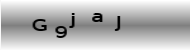9: (52, 25, 68, 40)
G: (31, 17, 48, 32)
J: (113, 14, 121, 32)
a: (91, 11, 103, 23)
j: (68, 12, 76, 28)
